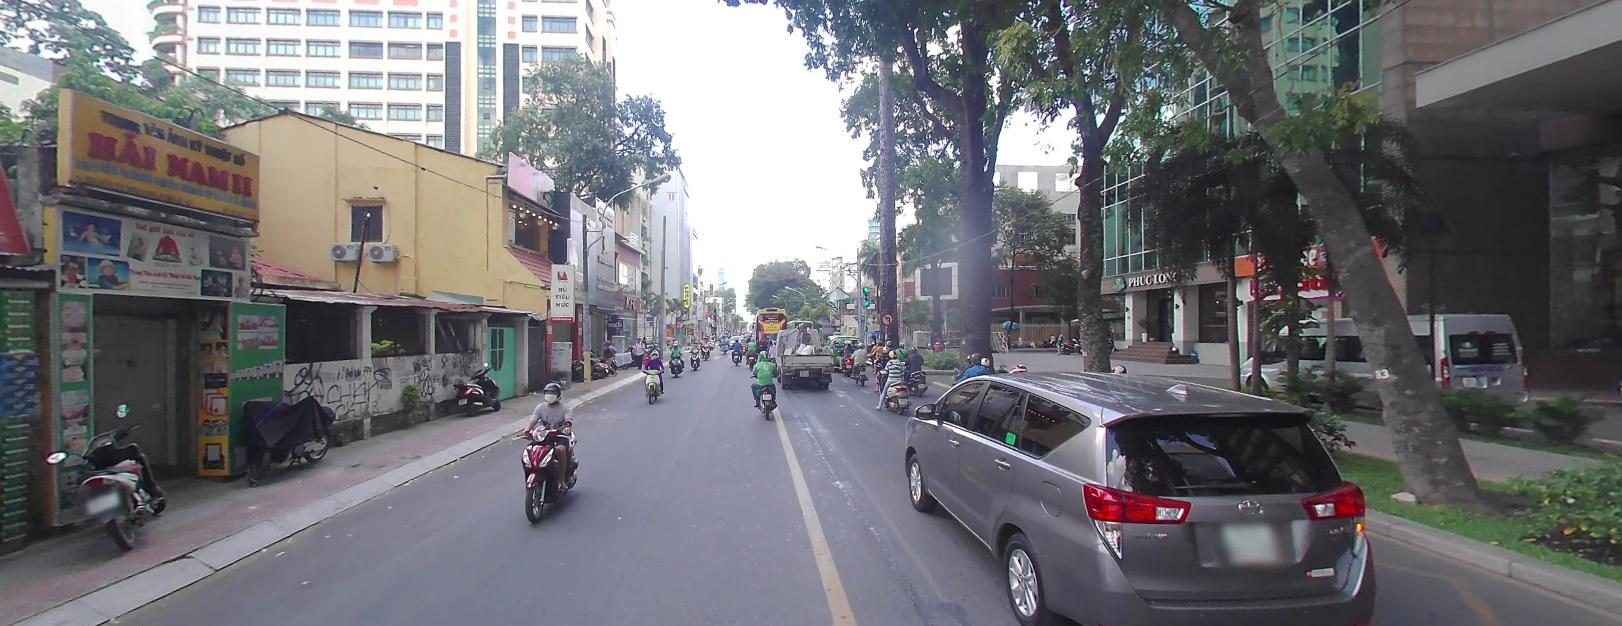Cam re: (880, 310, 894, 324)
